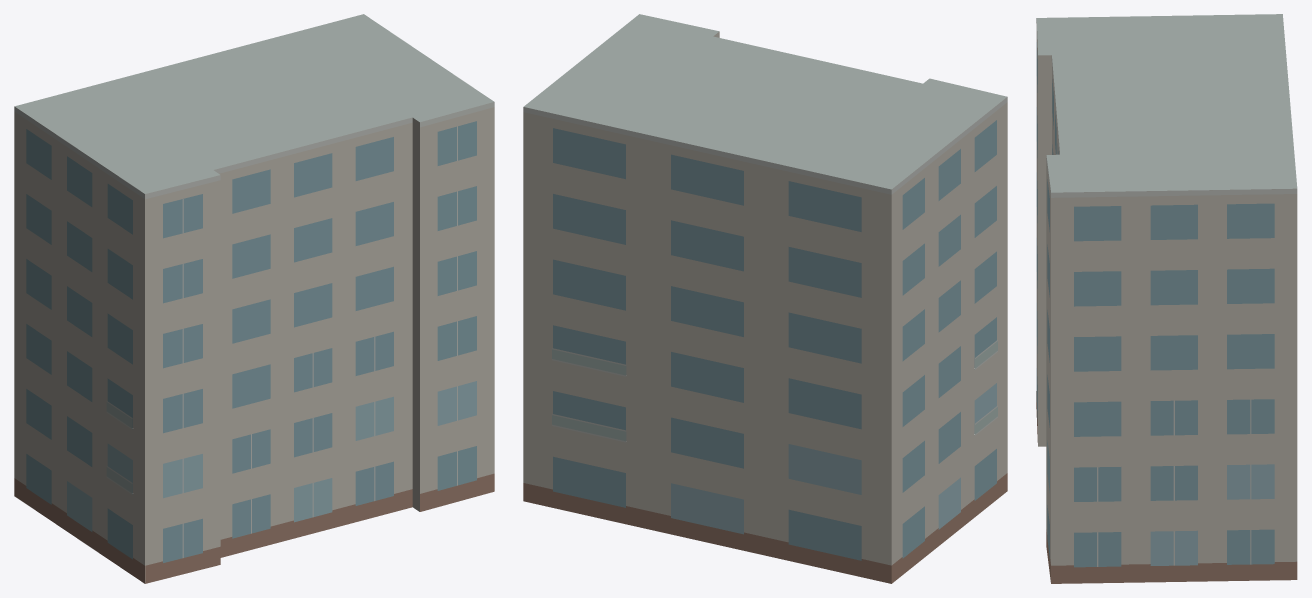
File: survey-upis-33035238.glb
The picture shows the model from 3 angles, left to right: view 1: azimuth 30°, elevation 25°; view 2: azimuth 150°, elevation 25°; view 3: azimuth 270°, elevation 25°; orthographic projection.
Parts seen in each view (by area): view 1: survey-upis-33035238.tmp; view 2: survey-upis-33035238.tmp; view 3: survey-upis-33035238.tmp.
Part boxes in pixels (left/top/right/bottom): survey-upis-33035238.tmp: left=14, top=14, right=494, bottom=583; survey-upis-33035238.tmp: left=523, top=14, right=1007, bottom=583; survey-upis-33035238.tmp: left=1036, top=14, right=1297, bottom=583.
Bounding box in the file's own units: 17.93 × 18.3 × 11.06.
